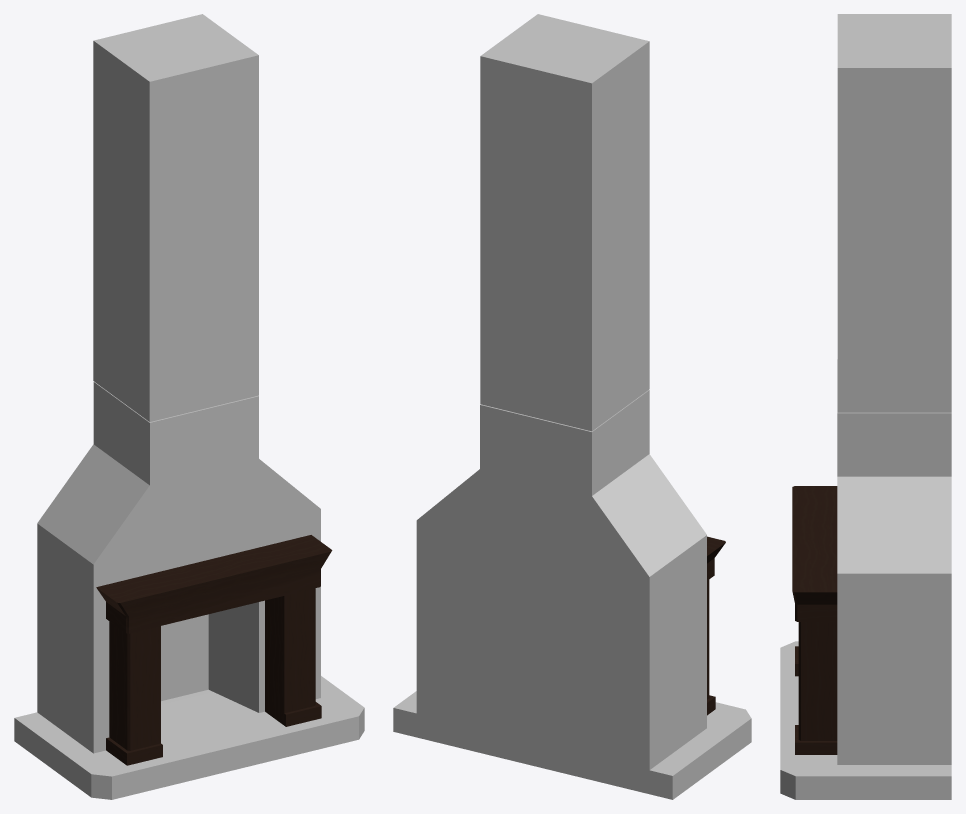
File: Fireplace_Grouped_02A.FBX
3 renders of one model, left to right at view 1: azimuth 30°, elevation 25°; view 2: azimuth 150°, elevation 25°; view 3: azimuth 270°, elevation 25°, orthographic. The views are drawn at different scales.
Visible parts, largest first — view 1: Fireplace_Box, Fireplace_Chimney_Extension; view 2: Fireplace_Box, Fireplace_Chimney_Extension; view 3: Fireplace_Box, Fireplace_Chimney_Extension.
Part boxes in pixels (<box>): Fireplace_Box: <box>14,381,364,799</box>; Fireplace_Chimney_Extension: <box>93,14,258,421</box>; Fireplace_Box: <box>393,390,751,799</box>; Fireplace_Chimney_Extension: <box>480,14,649,431</box>; Fireplace_Box: <box>780,359,951,799</box>; Fireplace_Chimney_Extension: <box>837,14,951,412</box>.
Bounding box in the file's own units: 16535 × 39413 × 8858.
